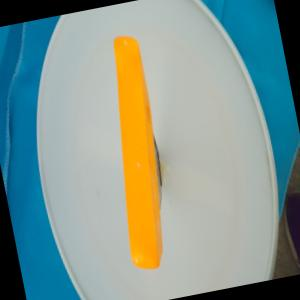serrote: (90, 31, 182, 274)
